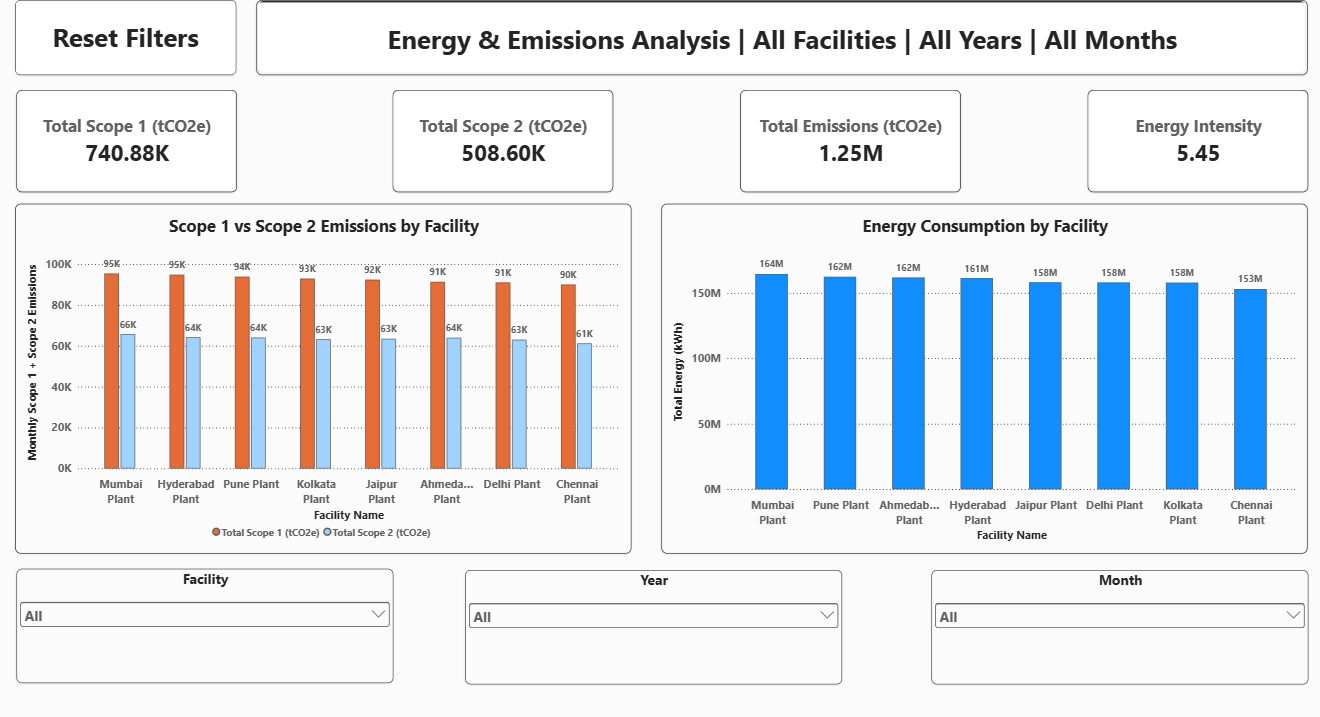

The dashboard page shown, as its layout file describes it:
{"tool":"powerbi","page":{"name":"Energy & Emissions Analysis","canvas":[1920,1080],"ordinal":1},"visuals":[{"type":"cardVisual","fields":{"Data":["Measure.Total Scope 1 (tCO2e)"]},"box":[25,145.7,319.6,147.8],"z":0,"group":"g1"},{"type":"clusteredColumnChart","title":"Scope 1 vs Scope 2 Emissions by Facility","fields":{"Category":["DimFacility.facility_name"],"Y":["Measure.Total Scope 1 (tCO2e)","Measure.Total Scope 2 (tCO2e)"]},"box":[23.5,309.5,892.2,506.7],"z":0},{"type":"slicer","title":"Facility","fields":{"Values":["DimFacility.facility_name"]},"box":[24.8,837.9,545.7,165.2],"z":0,"group":"g2"},{"type":"cardVisual","fields":{"Data":["Measure.Energy Emissions Dynamic Title"]},"box":[372.8,14.5,1521.8,108.7],"z":1000},{"type":"cardVisual","fields":{"Data":["Measure.Total Scope 2 (tCO2e)"]},"box":[569.3,144.8,319.6,147.8],"z":1000,"group":"g1"},{"type":"slicer","title":"Month","fields":{"Values":["DimDate.Month"]},"box":[1349.5,839.7,545.7,165.2],"z":1000,"group":"g2"},{"type":"cardVisual","fields":{"Data":["Measure.Total Emissions (tCO2e)"]},"box":[1072.4,144.8,319.6,147.8],"z":2000,"group":"g1"},{"type":"clusteredColumnChart","title":"Energy Consumption by Facility","fields":{"Category":["DimFacility.facility_name"],"Y":["Measure.Total Energy (kWh)"]},"box":[959.1,309.5,935.6,506.7],"z":2000},{"type":"slicer","title":"Year","fields":{"Values":["DimDate.Year"]},"box":[674.5,839.7,545.7,165.2],"z":2000,"group":"g2"},{"type":"actionButton","box":[23.5,14.5,320.3,108.6],"z":3000},{"type":"cardVisual","fields":{"Data":["Measure.Energy Intensity"]},"box":[1575.5,144.8,319.6,147.8],"z":3000,"group":"g1"},{"type":"group","id":"g1","title":"Group 1","box":[25,144.8,1870.1,148.7],"z":4000},{"type":"group","id":"g2","title":"Group 2","box":[24.8,837.9,1870.3,167],"z":5000}]}

Visuals, with their boxes on the page's 1920x1080 design canvas (x1, y1, x2, y2). These are canvas units, not pixel positions in the 1320x717 screenshot, which may show the page scaled, cropped or inside an application window:
cardVisual - Measure.Total Scope 1 (tCO2e): detection(25, 146, 345, 294)
"Scope 1 vs Scope 2 Emissions by Facility" clusteredColumnChart: detection(24, 310, 916, 816)
"Facility" slicer: detection(25, 838, 570, 1003)
cardVisual - Measure.Energy Emissions Dynamic Title: detection(373, 14, 1895, 123)
cardVisual - Measure.Total Scope 2 (tCO2e): detection(569, 145, 889, 293)
"Month" slicer: detection(1350, 840, 1895, 1005)
cardVisual - Measure.Total Emissions (tCO2e): detection(1072, 145, 1392, 293)
"Energy Consumption by Facility" clusteredColumnChart: detection(959, 310, 1895, 816)
"Year" slicer: detection(674, 840, 1220, 1005)
actionButton: detection(24, 14, 344, 123)
cardVisual - Measure.Energy Intensity: detection(1576, 145, 1895, 293)
"Group 1" group: detection(25, 145, 1895, 294)
"Group 2" group: detection(25, 838, 1895, 1005)
